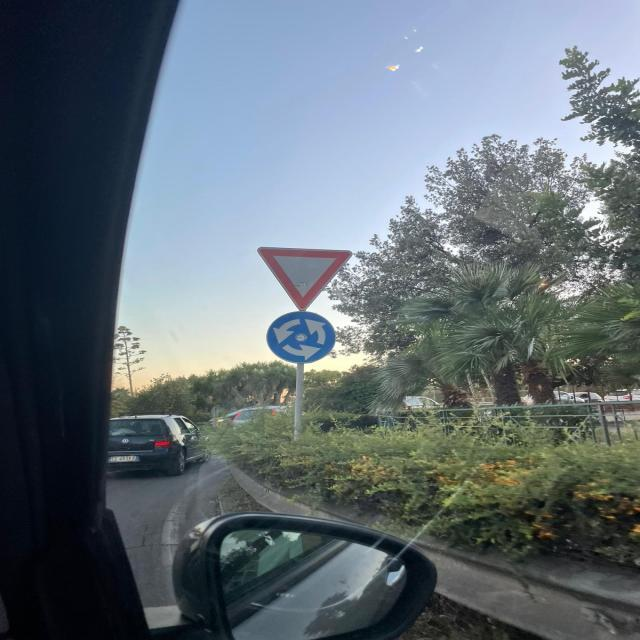prio_give_way: (255, 246, 353, 313)
